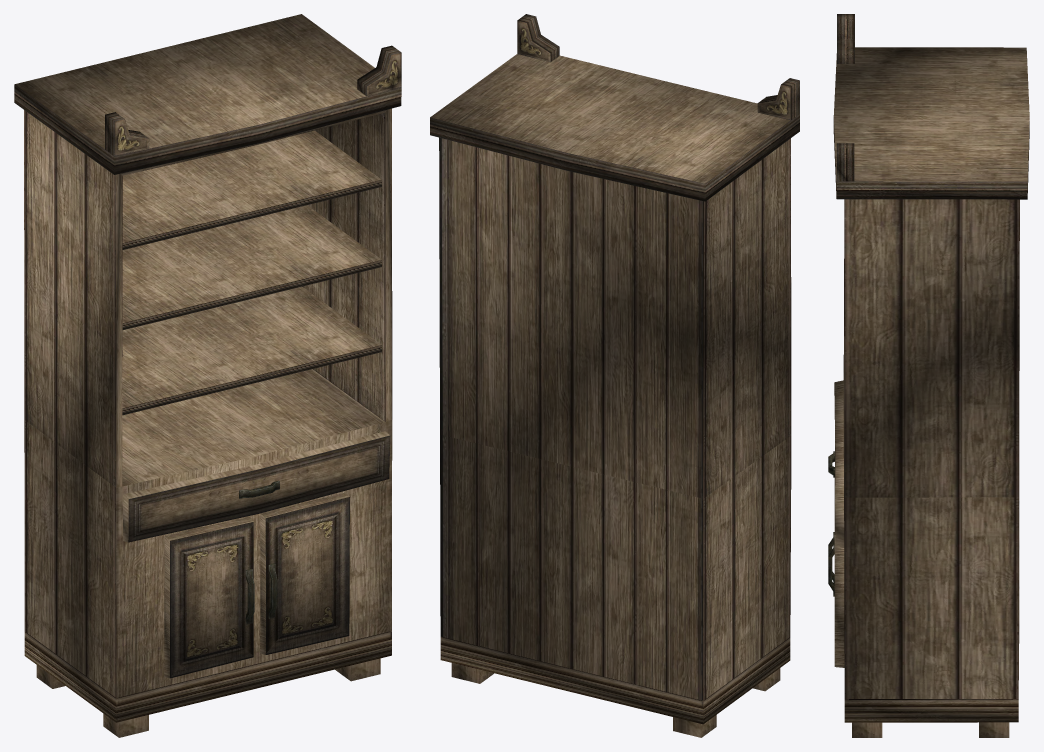
The model's file is GS_VOB_RICHSHELF_YELLOW_01_KOZA.glb.
3 renders of one model, left to right at view 1: azimuth 30°, elevation 25°; view 2: azimuth 150°, elevation 25°; view 3: azimuth 270°, elevation 25°, orthographic. The views are drawn at different scales.
Parts seen in each view (by area): view 1: Mesh; view 2: Mesh; view 3: Mesh.
Boxes of the visible parts, bbox=[...] form: Mesh: bbox=[14, 14, 401, 737]; Mesh: bbox=[430, 14, 799, 737]; Mesh: bbox=[828, 14, 1029, 737].
Bounding box in the file's own units: 1.48 × 3.08 × 0.9415.
Materials: 4 (4 with a texture image).
